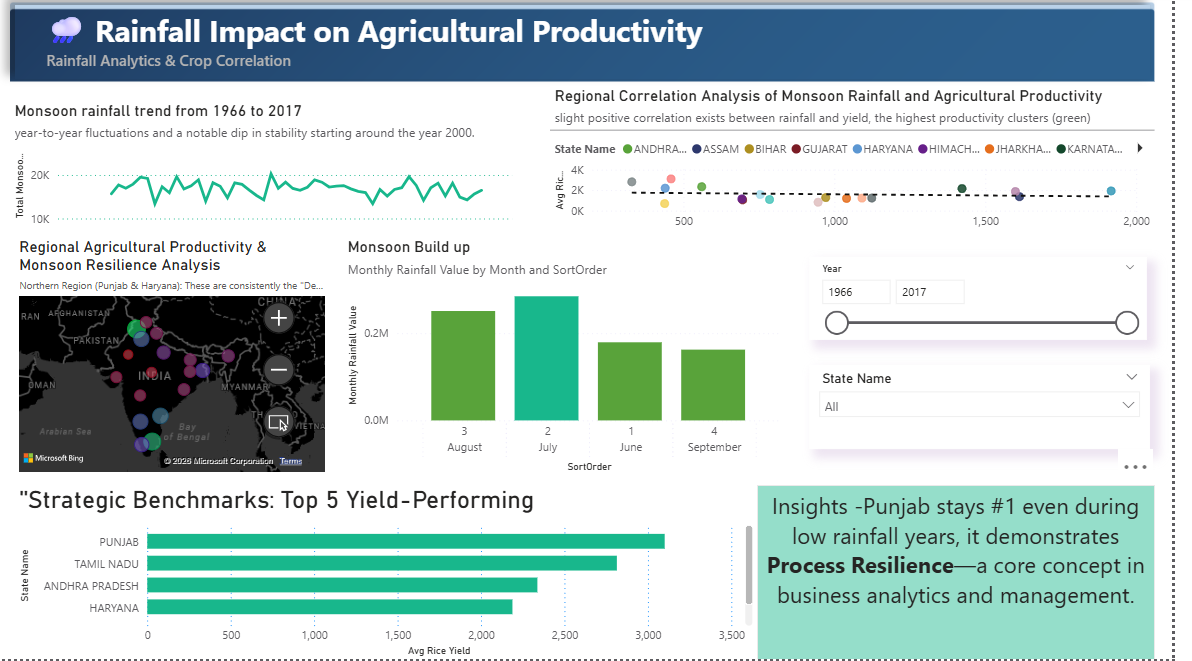

Layout of this report page (visuals, bound fields, positions):
{"tool":"powerbi","page":{"name":"Rainfall","canvas":[1280,720],"ordinal":1},"visuals":[{"type":"lineChart","title":"Monsoon rainfall trend from 1966 to 2017","fields":{"Y":["Rainfall measures.Total Monsoon Rainfall"],"Category":["rain-agriculture.YEAR.1"]},"box":[25.9,116.6,547.3,140.9],"z":0},{"type":"image","box":[26,5,1235,96],"z":500,"group":"g1"},{"type":"group","id":"g1","title":"Group 1","box":[26,5,1235,96],"z":1000},{"type":"textbox","box":[31,13,1225,80],"z":2000,"group":"g1"},{"type":"map","title":"Regional Agricultural Productivity & Monsoon Resilience Analysis","fields":{"Category":["rain-agriculture.State Name"],"Size":["Yield Measures.Avg Rice Yield"]},"box":[30.8,263.9,340,257.5],"z":2000},{"type":"scatterChart","title":"Regional Correlation Analysis of Monsoon Rainfall and Agricultural Productivity","fields":{"X":["Rainfall measures.Avg Monsoon Rainfall"],"Y":["Yield Measures.Avg Rice Yield"],"Series":["rain-agriculture.State Name"]},"box":[608.8,100.4,652.5,163.5],"z":3000},{"type":"slicer","fields":{"Values":["rain-agriculture.Year"]},"box":[889.1,285,364.3,89.1],"z":3000,"group":"g2"},{"type":"group","id":"g2","title":"Group 6","box":[889,285,367.6,207.3],"z":4000},{"type":"slicer","fields":{"Values":["rain-agriculture.State Name"]},"box":[889,401.4,367.6,90.7],"z":4000,"group":"g2"},{"type":"clusteredColumnChart","title":"Monsoon Build up ","fields":{"Y":["Monthly Rainfall Value.Monthly Rainfall Value"],"Category":["MonthsTable.Month","MonthsTable.SortOrder"]},"box":[385.4,263.9,477.7,257.5],"z":5000},{"type":"clusteredBarChart","title":"\"Strategic Benchmarks: Top 5 Yield-Performing","fields":{"Category":["rain-agriculture.State Name"],"Y":["Yield Measures.Avg Rice Yield"]},"box":[30.8,531.1,801.5,189.4],"z":6000},{"type":"textbox","box":[833,531,429,189],"z":7000}]}

Visuals, with their boxes in screenshot pixels (x1, y1, x2, y2), scaled from the page's 1280x720 canvas onto the 1192x661 screenshot:
"Monsoon rainfall trend from 1966 to 2017" lineChart: box(24, 107, 534, 236)
image: box(24, 5, 1174, 93)
"Group 1" group: box(24, 5, 1174, 93)
textbox: box(29, 12, 1170, 85)
"Regional Agricultural Productivity & Monsoon Resilience Analysis" map: box(29, 242, 345, 479)
"Regional Correlation Analysis of Monsoon Rainfall and Agricultural Productivity" scatterChart: box(567, 92, 1175, 242)
slicer - rain-agriculture.Year: box(828, 262, 1167, 343)
"Group 6" group: box(828, 262, 1170, 452)
slicer - rain-agriculture.State Name: box(828, 369, 1170, 452)
"Monsoon Build up " clusteredColumnChart: box(359, 242, 804, 479)
""Strategic Benchmarks: Top 5 Yield-Performing" clusteredBarChart: box(29, 488, 775, 660)
textbox: box(776, 487, 1175, 660)
